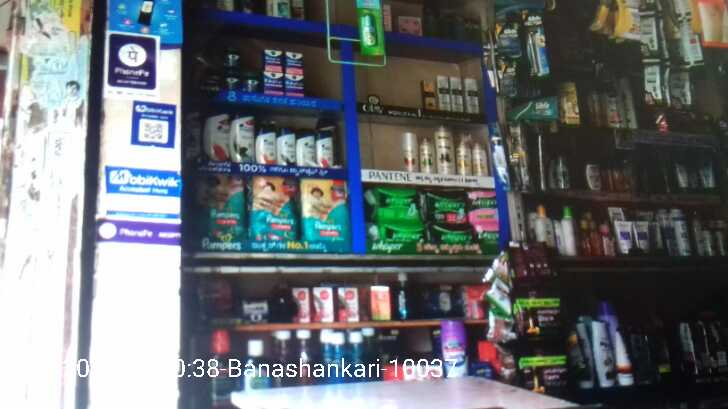vicks: (202, 51, 309, 90)
